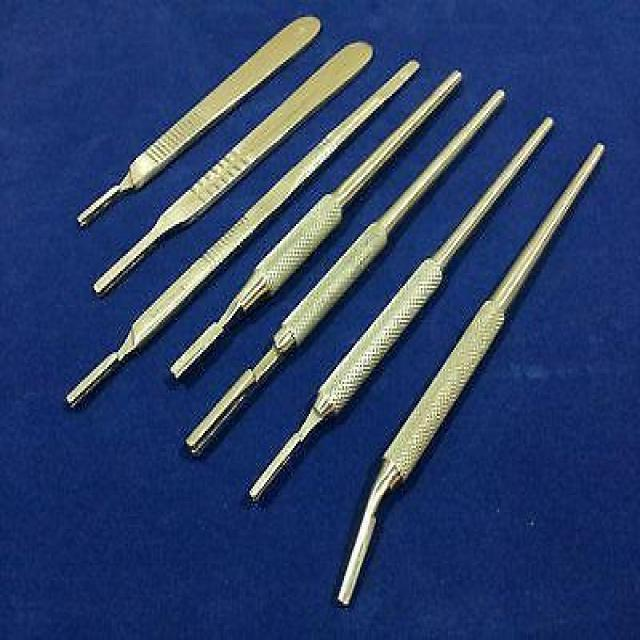Scalpel: (336, 130, 610, 612), (64, 53, 422, 410), (182, 85, 509, 461), (246, 110, 557, 502), (168, 61, 464, 386), (92, 34, 374, 303), (75, 11, 323, 234)
